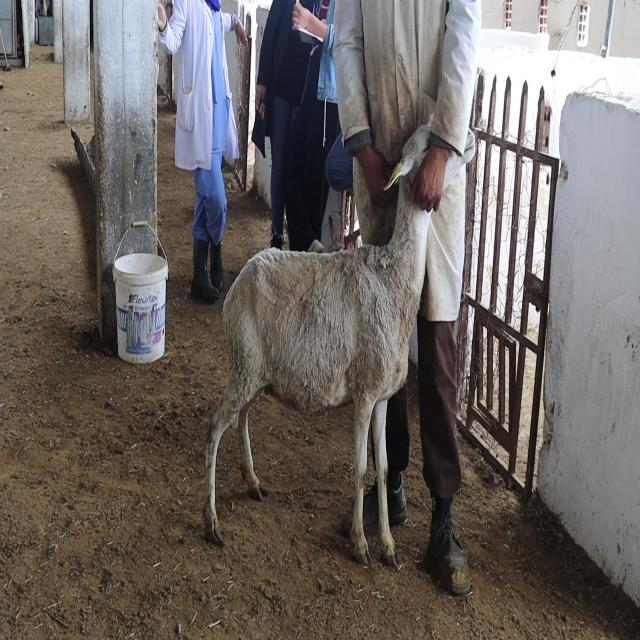Score_1: (204, 123, 430, 566)
